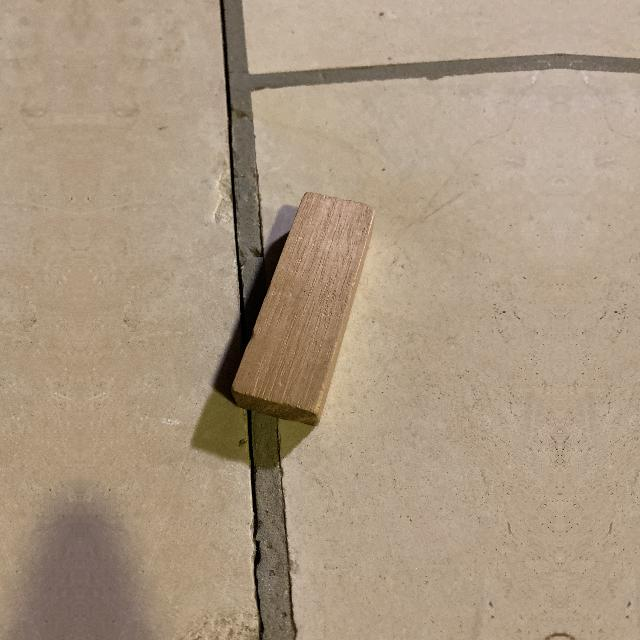jenga: (232, 193, 374, 426)
